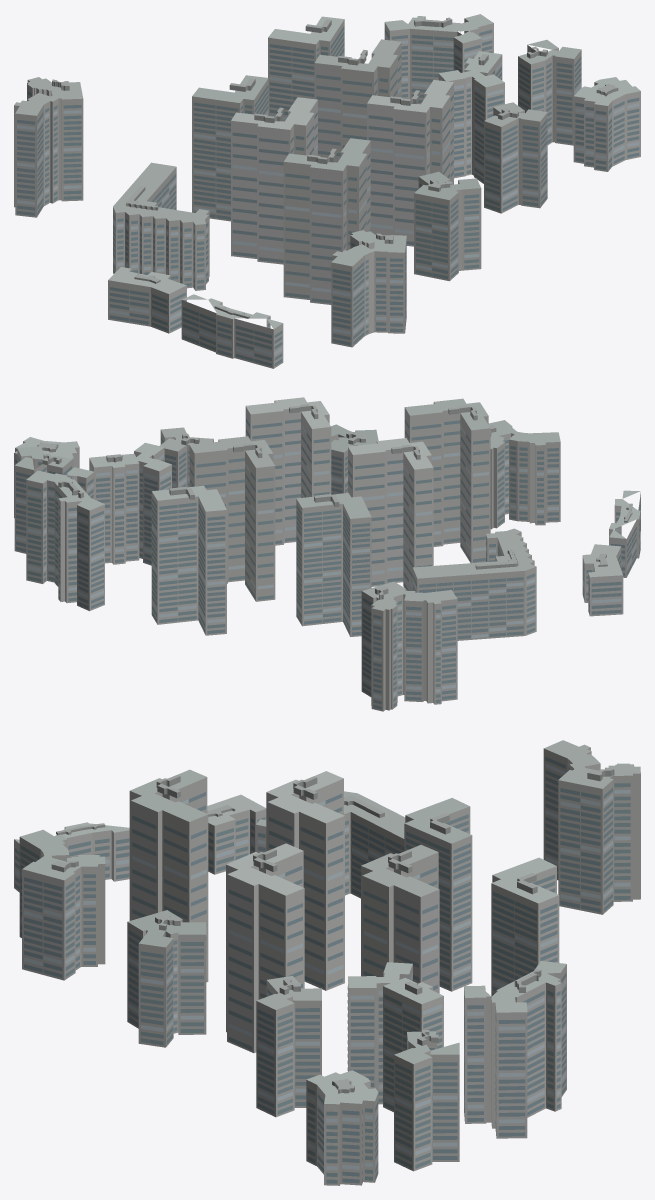
File: apt-a10023508.glb
3 views of the same model, one above another, from view 1: azimuth 30°, elevation 25°; view 2: azimuth 150°, elevation 25°; view 3: azimuth 270°, elevation 25° (orthographic). The views are drawn at different scales.
Parts seen in each view (by area): view 1: apt-a10023508; view 2: apt-a10023508; view 3: apt-a10023508.
Boxes of the visible parts, <box> form: apt-a10023508: <box>14,14,640,368</box>; apt-a10023508: <box>14,397,640,711</box>; apt-a10023508: <box>14,740,640,1185</box>.
Size of the model in its own units: 301 by 71 by 233.
